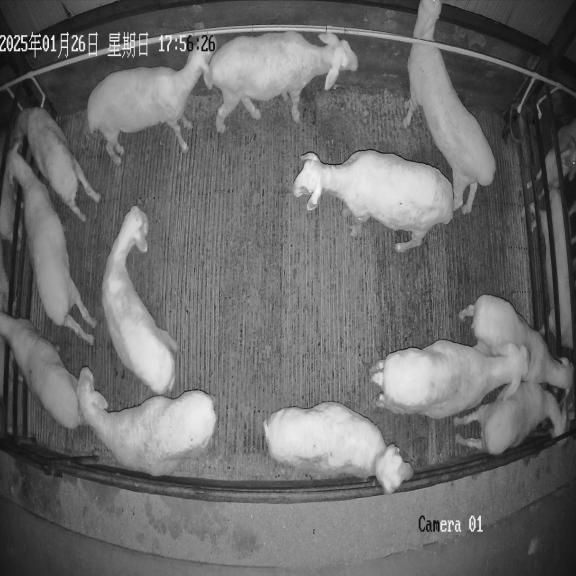drinking: (12, 107, 100, 221)
stand: (402, 0, 496, 214), (7, 148, 96, 344), (87, 35, 217, 165), (292, 150, 453, 253), (77, 367, 216, 476), (209, 31, 357, 132), (102, 206, 178, 394), (263, 402, 413, 494), (370, 340, 529, 418), (460, 295, 572, 392), (0, 312, 83, 429), (455, 381, 566, 454)
